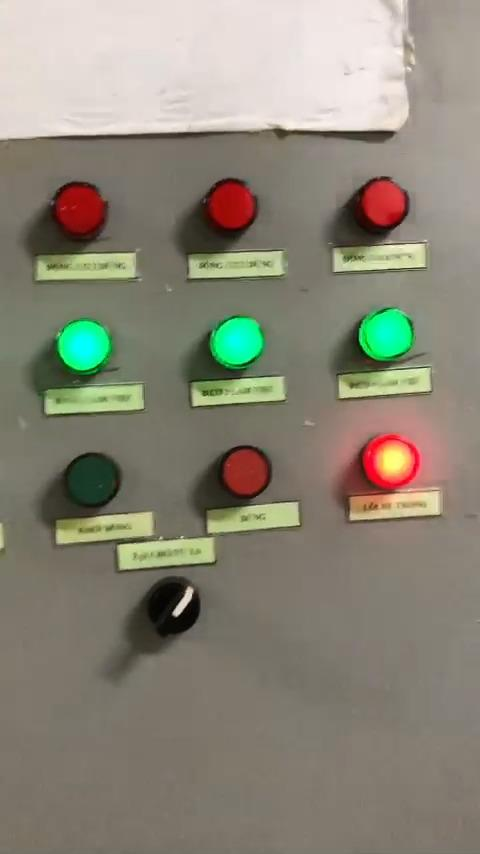led: (199, 314, 263, 379), (200, 174, 263, 240), (64, 448, 125, 509), (358, 430, 420, 490), (214, 441, 276, 501), (354, 175, 413, 234), (358, 308, 415, 369), (50, 181, 109, 238), (57, 318, 112, 376)
twist: (145, 574, 204, 638)
